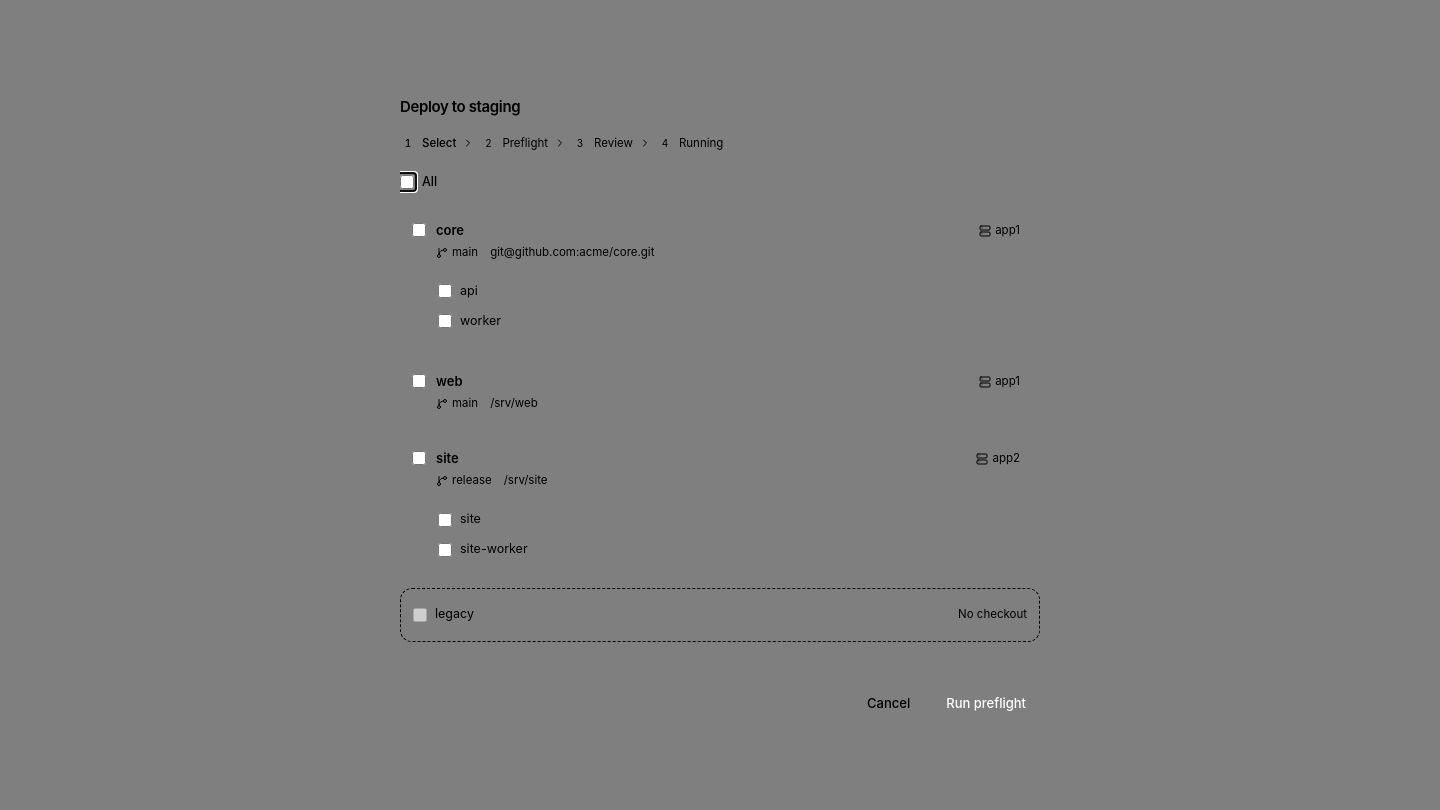
deploy wizard › a fully ticked group is whole checkout; partial shows the notice naming every unselected service
The image size is (1440, 810).
expect the text "git@github.com:acme/core.git" is shown: met, box 490,245 -> 654,259
expect the text "main" next to "git@github.com:acme/core.git" is shown: met, box 452,245 -> 478,259
Click the checkbox named "All of core" at (419, 230), box 412,223 -> 426,237
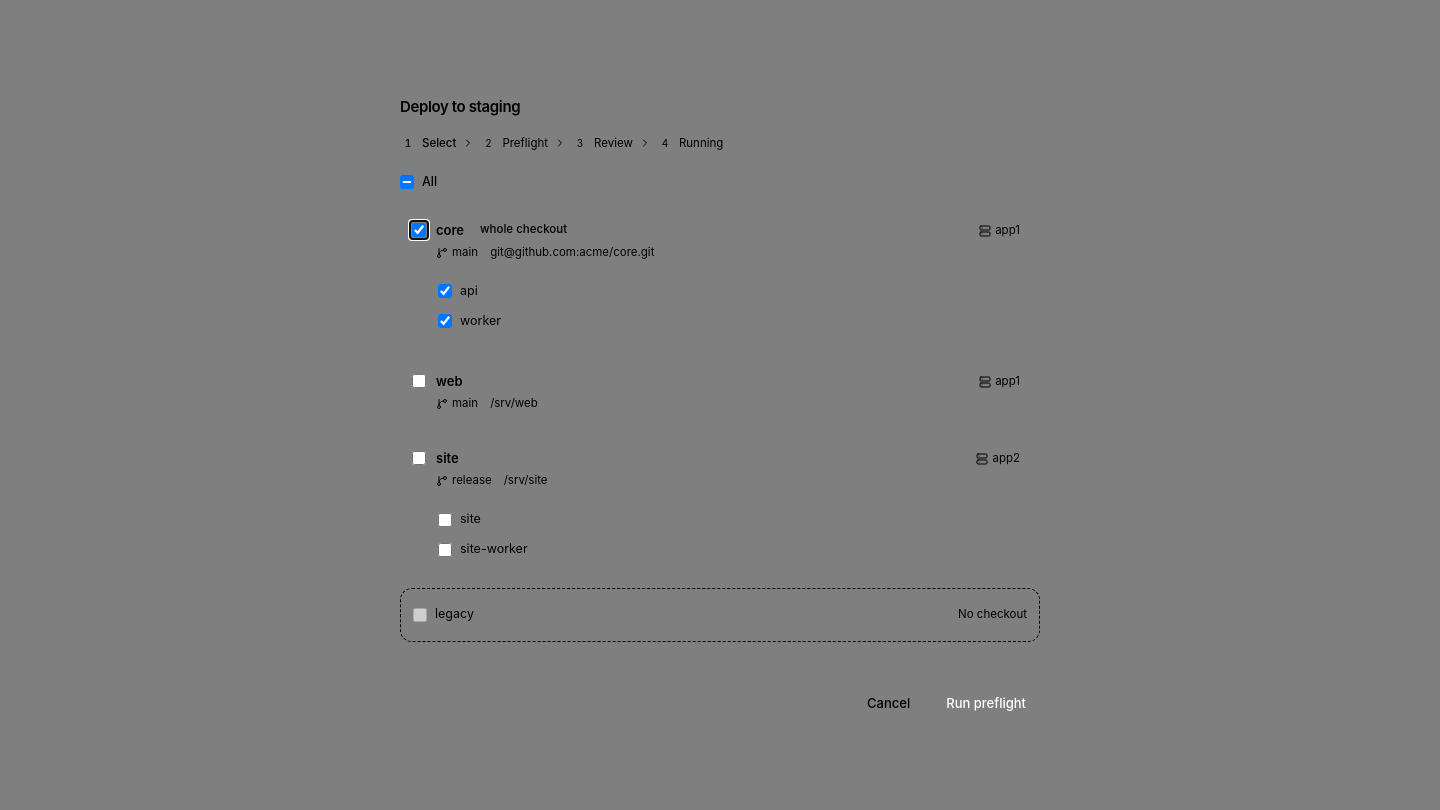
expect the checkbox labelled "api" is checked: met, box 438,284 -> 452,298
expect the checkbox labelled "worker" is checked: met
expect the text "whole checkout" is shown: met, box 480,222 -> 567,236
Click the checkbox labelled "worker" at (445, 321), box 438,314 -> 452,328
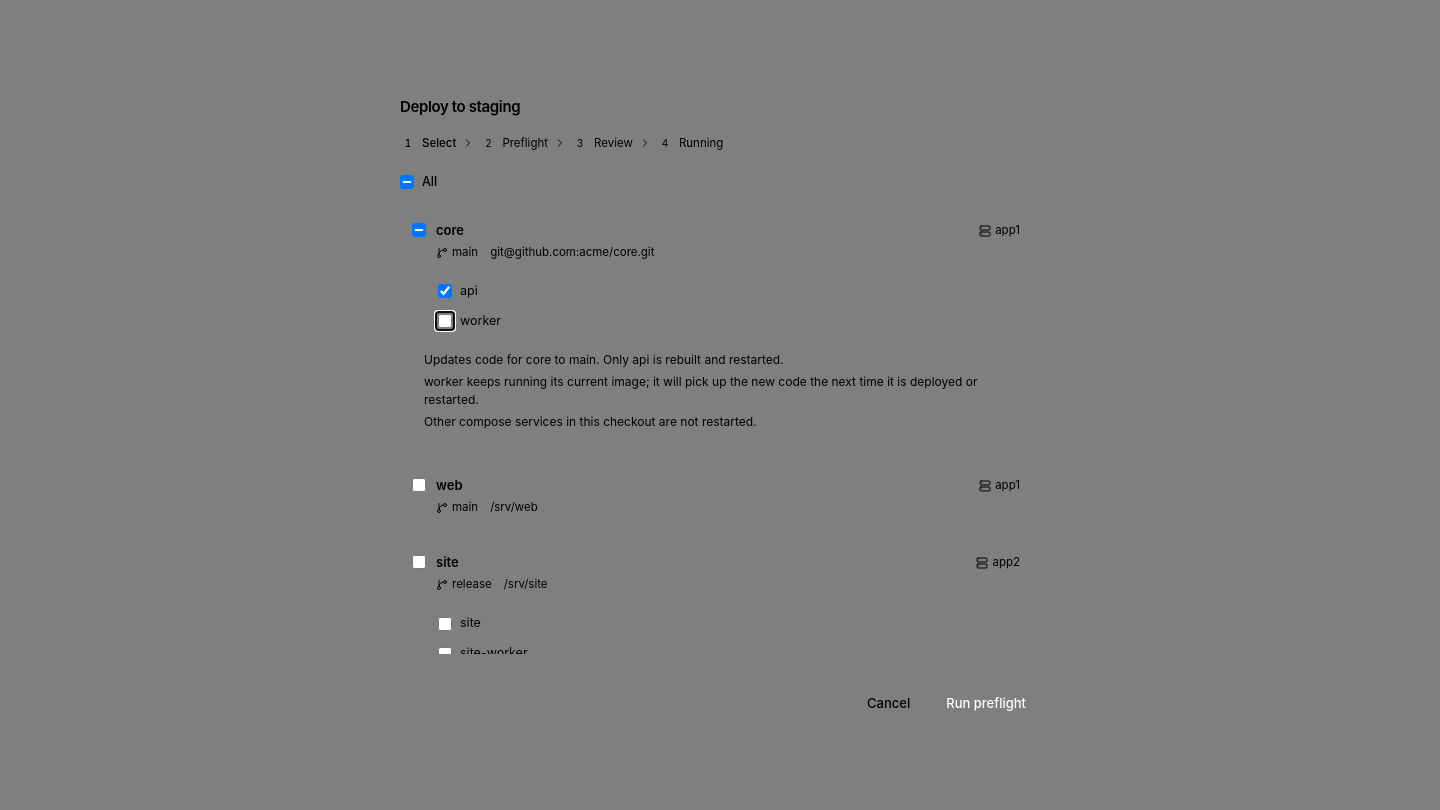
expect the text "whole checkout" is gone: met
expect the list items read "Updates code for core to main. Only api is rebuilt and restarted.", "worker keeps running its current image; it will pick up the new code the next time it is deployed or restarted.", "Other compose services in this checkout are not restarted.", in this order: met, box 424,352 -> 784,367; 424,373 -> 1016,409; 424,414 -> 757,429
